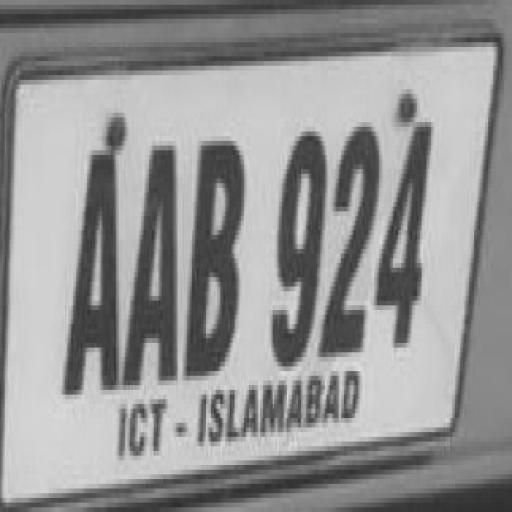2: (325, 119, 378, 350)
4: (378, 117, 432, 355)
9: (266, 115, 318, 356)
A: (64, 130, 120, 399), (125, 138, 177, 387)
B: (184, 119, 248, 376)
